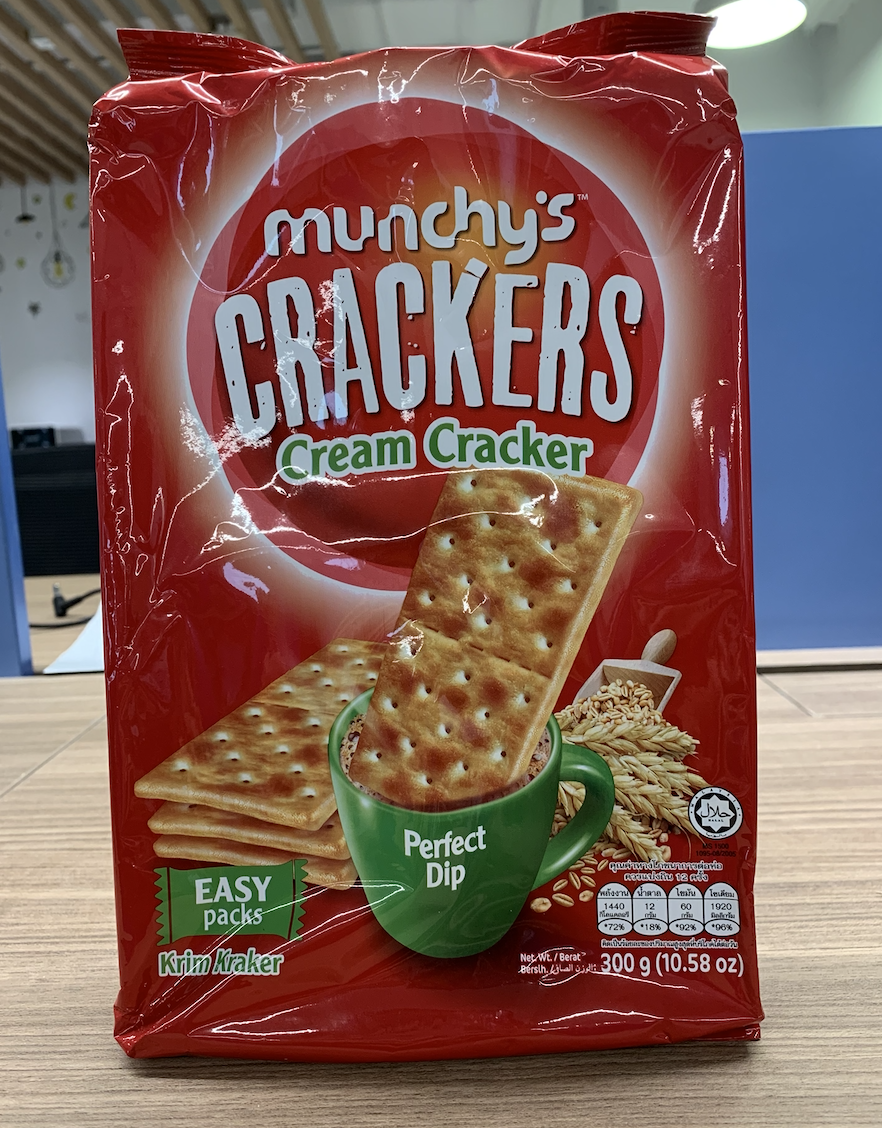halal: (696, 797, 738, 835)
